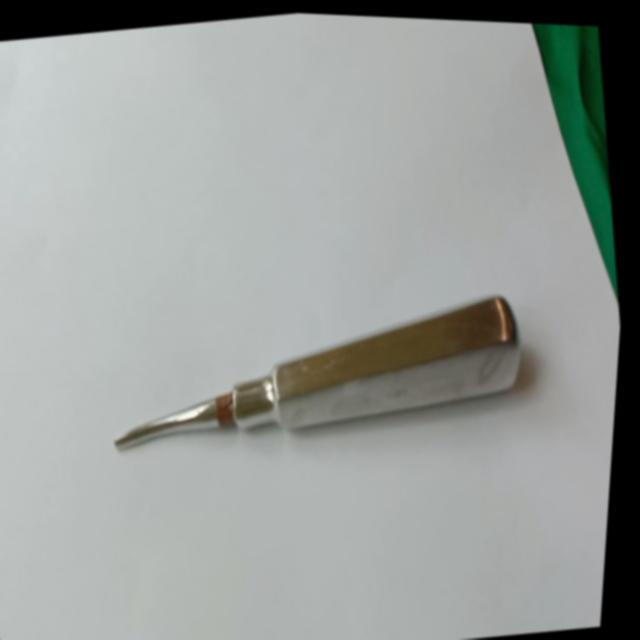Coupland1: (98, 258, 546, 481)
